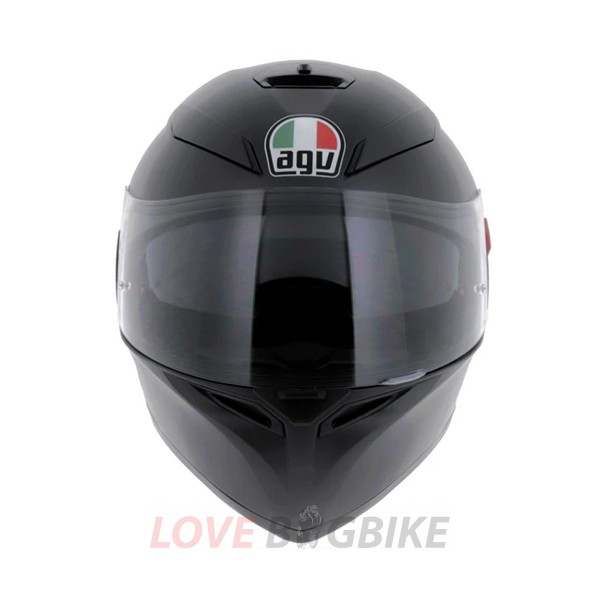helmet: (115, 59, 489, 542)
